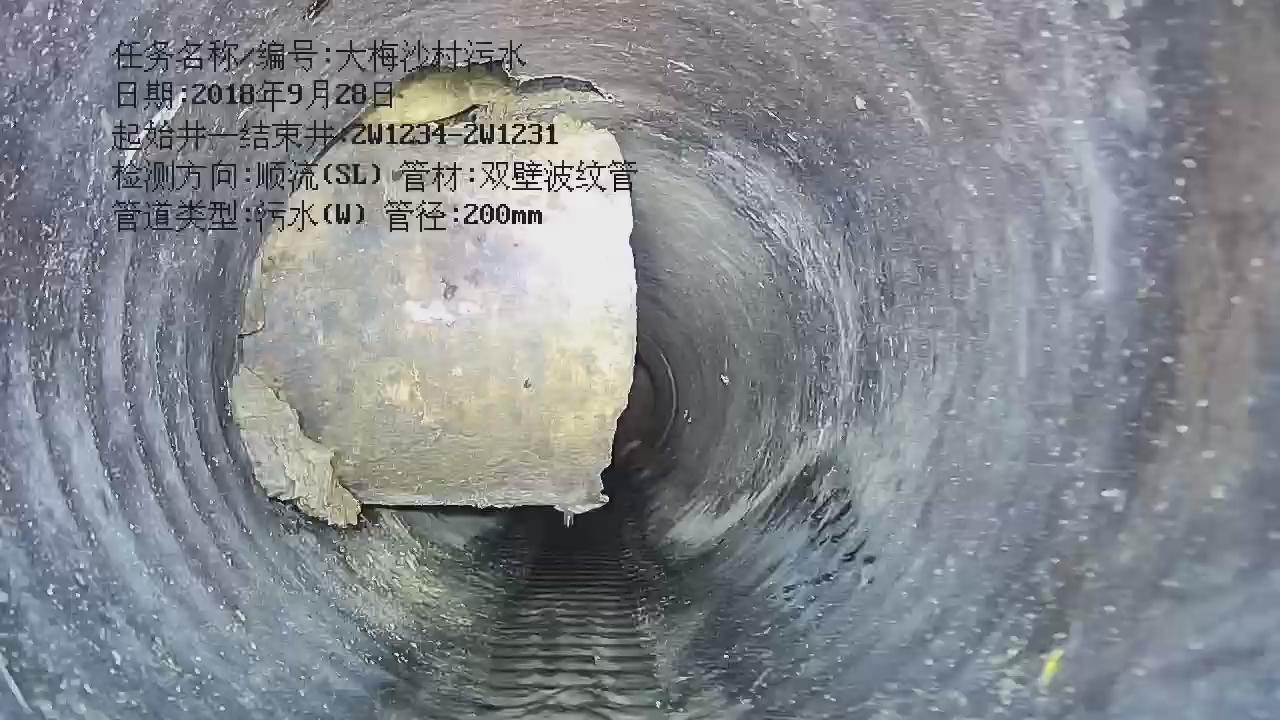PL: (360, 63, 516, 123), (512, 74, 615, 101)
ZGAJ: (246, 100, 635, 514)
